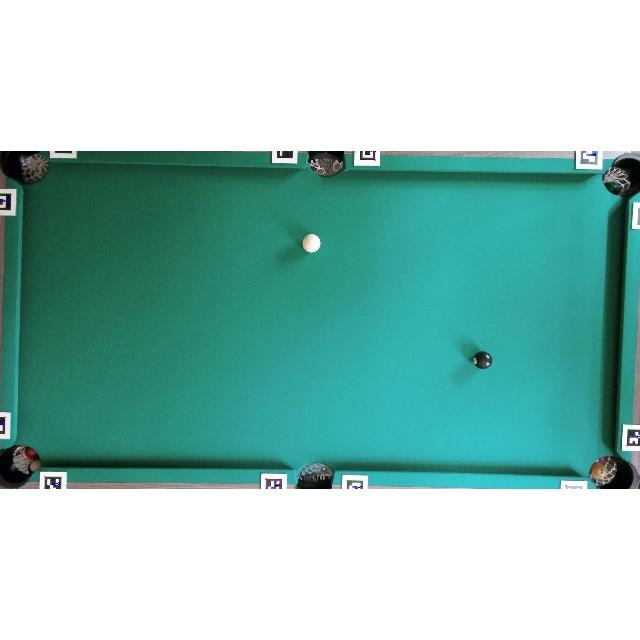cue ball: (301, 234, 321, 254)
other: (472, 350, 492, 369)
